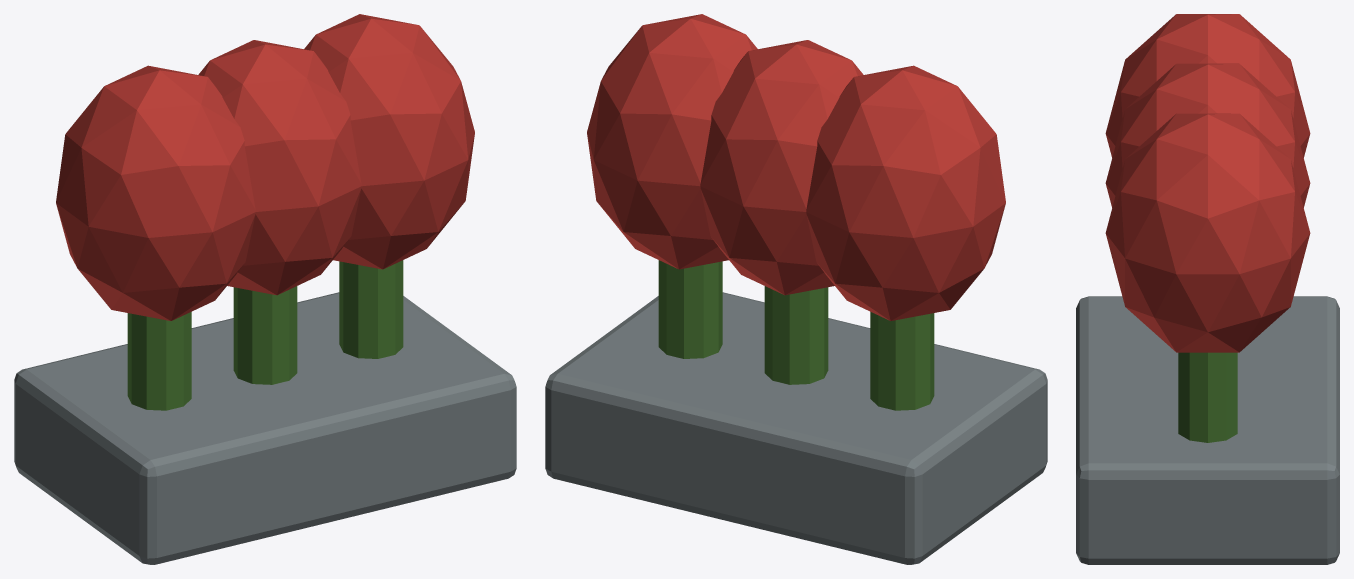
Rendered from australian-bottlebrush.glb.
The picture shows the model from 3 angles, left to right: view 1: azimuth 30°, elevation 25°; view 2: azimuth 150°, elevation 25°; view 3: azimuth 270°, elevation 25°; orthographic projection. The views are drawn at different scales.
Visible parts, largest first — view 1: bottlebrush_crown, bottlebrush_planter, bottlebrush_stem; view 2: bottlebrush_crown, bottlebrush_planter, bottlebrush_stem; view 3: bottlebrush_planter, bottlebrush_crown, bottlebrush_stem.
Part boxes in pixels (box(x1,y1,x2,y2)): bottlebrush_crown: box(56, 14, 474, 320); bottlebrush_planter: box(14, 292, 516, 564); bottlebrush_stem: box(127, 260, 403, 410); bottlebrush_crown: box(587, 14, 1005, 320); bottlebrush_planter: box(545, 292, 1047, 564); bottlebrush_stem: box(658, 260, 934, 410); bottlebrush_planter: box(1076, 296, 1339, 564); bottlebrush_crown: box(1105, 14, 1310, 352); bottlebrush_stem: box(1178, 352, 1237, 442).
Bounding box in the file's own units: 1.39 × 1.48 × 0.85.
